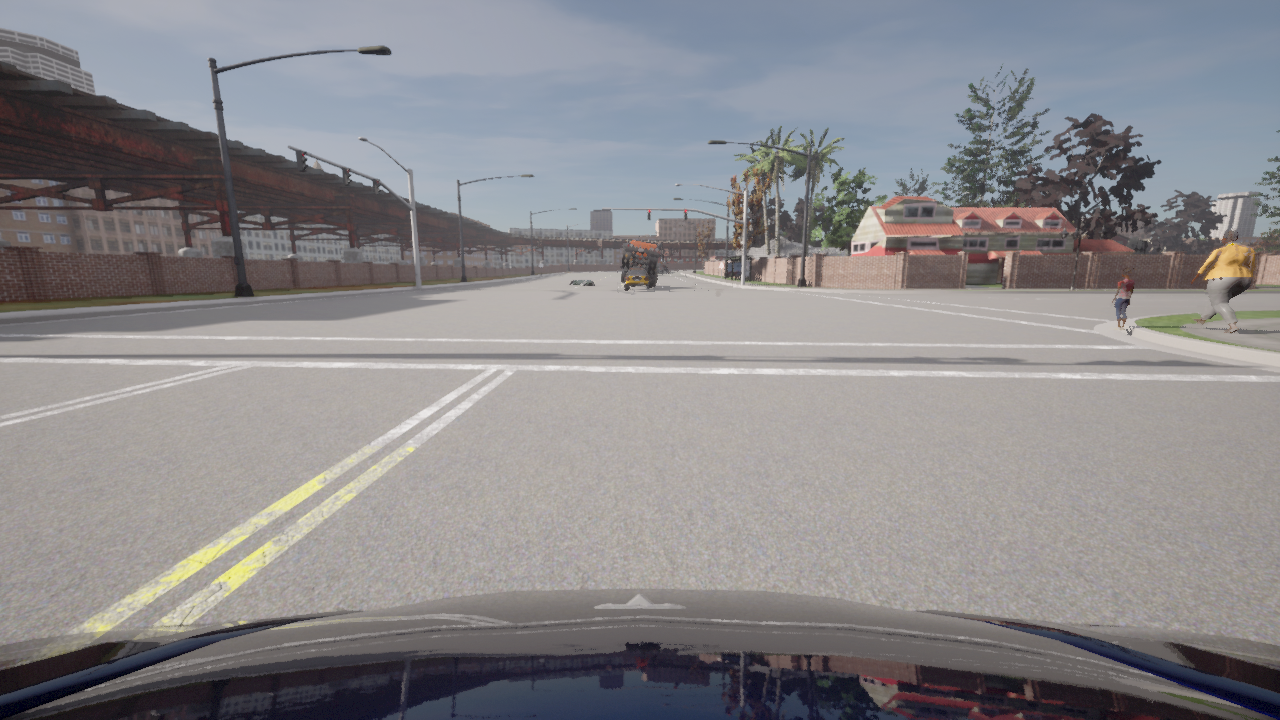cyclist: (0, 588, 1279, 719), (621, 241, 662, 286), (625, 267, 649, 289), (569, 279, 596, 286), (662, 266, 669, 272), (657, 266, 663, 273)
pedestrian: (1190, 230, 1255, 333), (1110, 267, 1135, 329)
